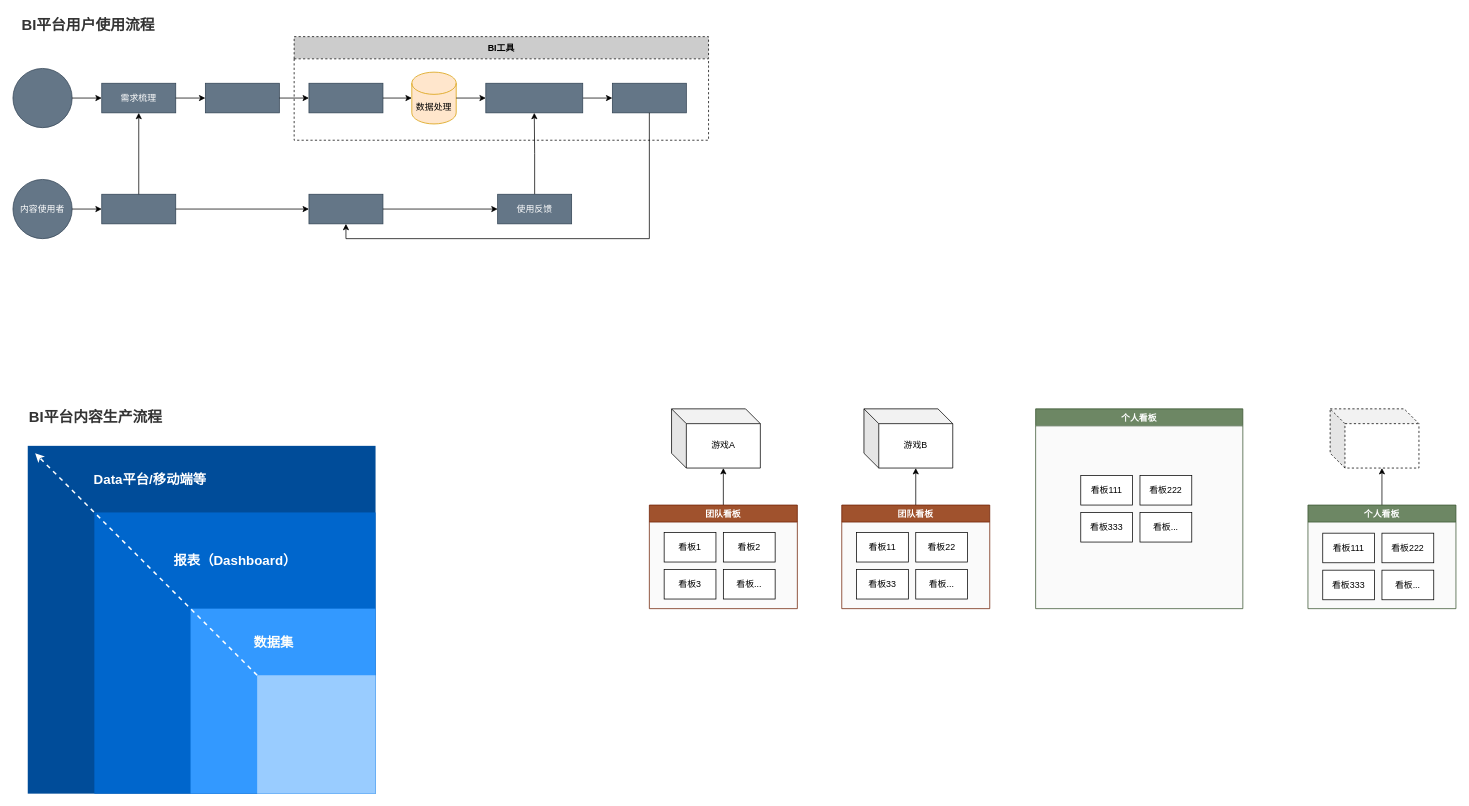
The diagram is 1469 pixels wide and 806 high, and some of its shapes have lost their labels. Each missing label, with the centre of its shape:
内容加工者: pixel 42 98
报表分发: pixel 649 98
报表制作(数据分析): pixel 534 98
提出需求: pixel 138 209
数据 （维度/指标）: pixel 316 734
数据接入: pixel 345 98
数据生产: pixel 242 98
查看报表: pixel 345 209
虚拟的游戏: pixel 1374 438
